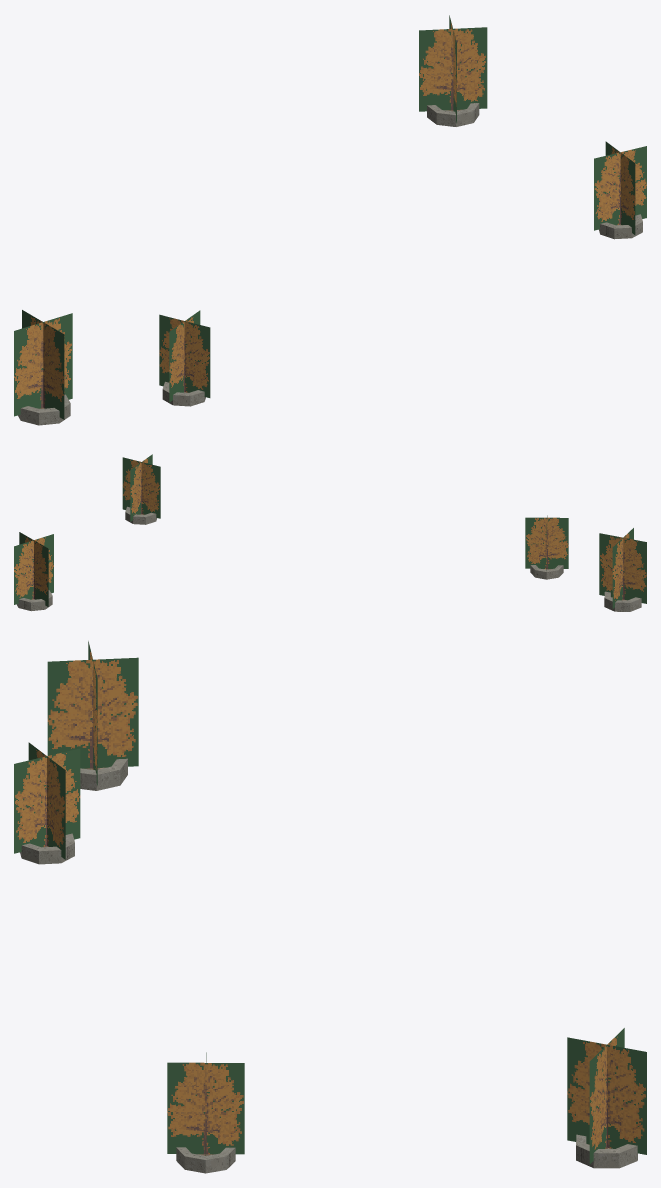
Rendered from procgen-procpain-tree-park-large-x1z1.obj.
3 views of the same model, one above another, from view 1: azimuth 30°, elevation 25°; view 2: azimuth 150°, elevation 25°; view 3: azimuth 270°, elevation 25° (orthographic). The views are drawn at different scales.
Bounding box in the file's own units: 60.94 × 7.88 × 38.78.
